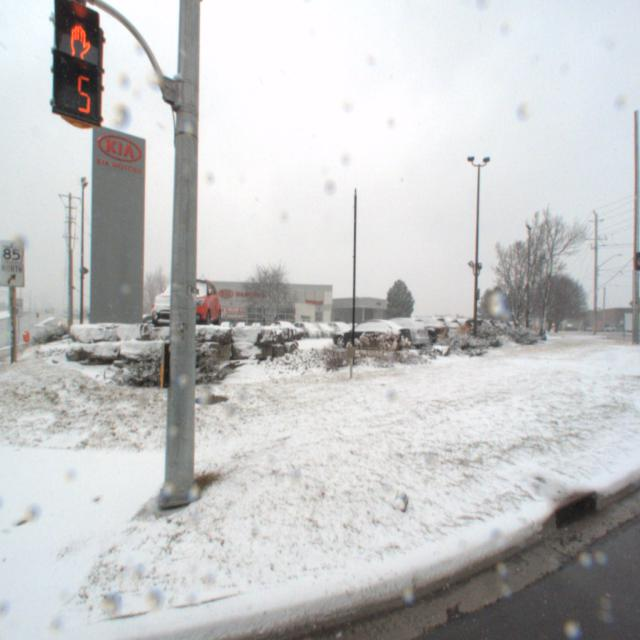Car: (140, 264, 224, 332), (325, 318, 415, 356), (377, 315, 451, 353), (354, 318, 432, 354), (260, 318, 303, 341), (286, 318, 322, 341), (319, 319, 357, 340), (301, 320, 338, 340)
